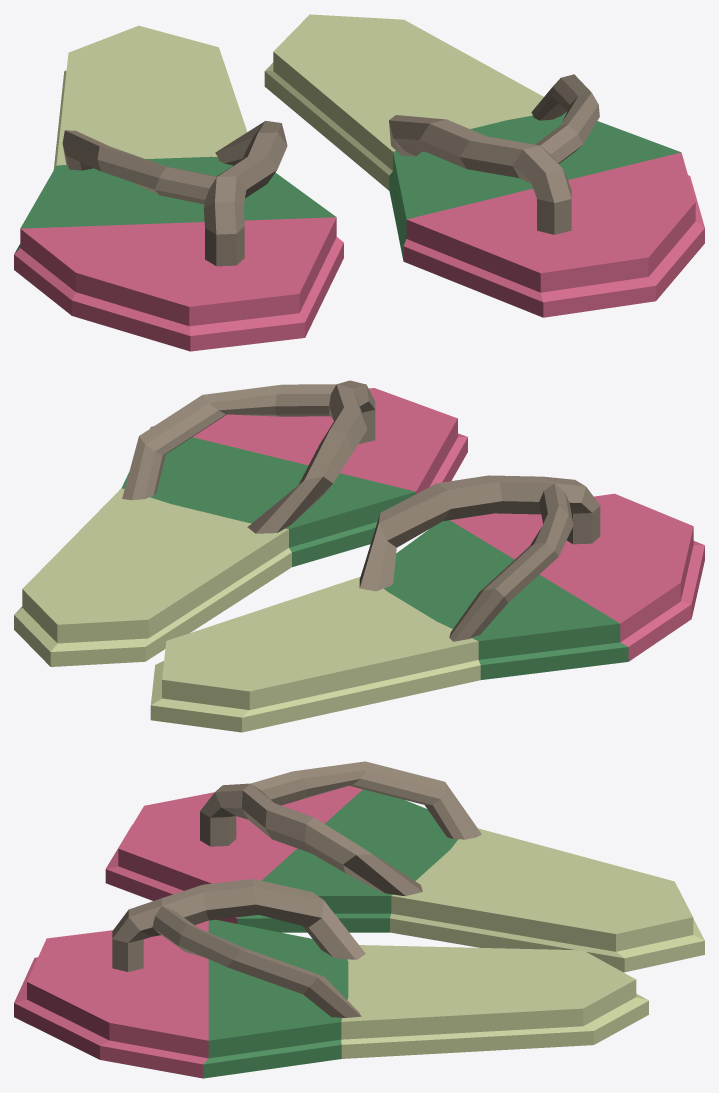
File: flipflops.fbx
3 views of the same model, one above another, from view 1: azimuth 30°, elevation 25°; view 2: azimuth 150°, elevation 25°; view 3: azimuth 270°, elevation 25° (orthographic). The views are drawn at different scales.
Visible parts, largest first — view 1: pCylinder17; view 2: pCylinder17; view 3: pCylinder17.
Boxes of the visible parts, x1=… form: pCylinder17: x1=14, y1=14, x2=704, y2=351; pCylinder17: x1=14, y1=380, x2=704, y2=732; pCylinder17: x1=14, y1=761, x2=704, y2=1078.
Size of the model in its own units: 0.0206 by 0.00349 by 0.0229.
